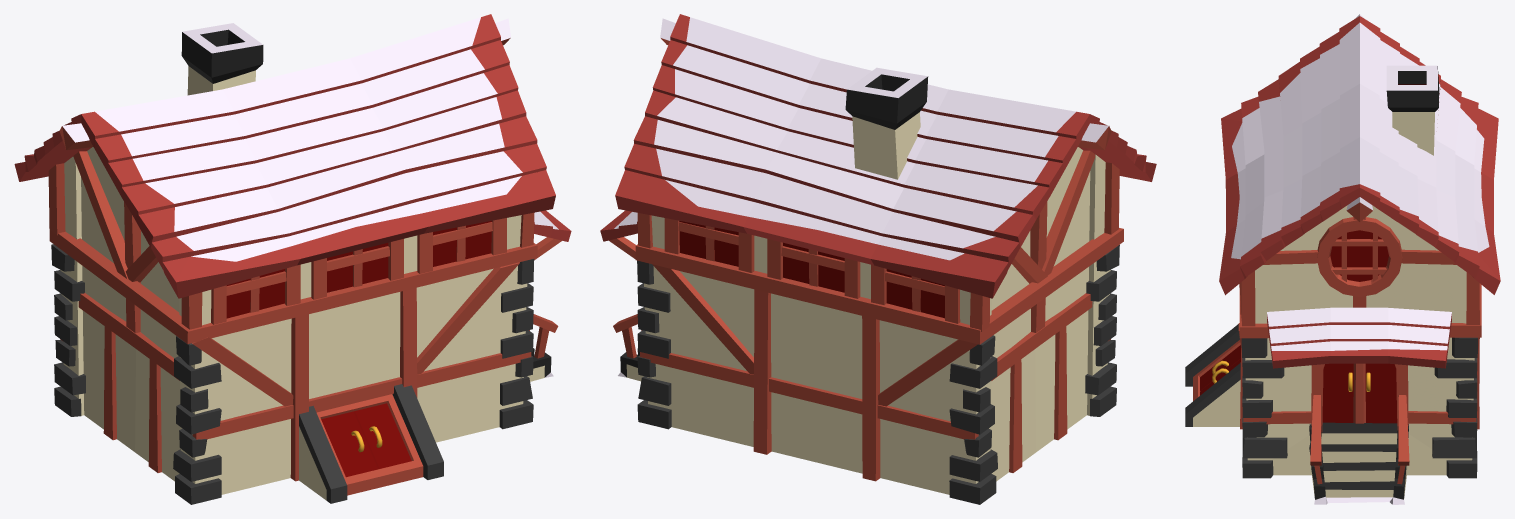
Rendered from house3.glb.
The picture shows the model from 3 angles, left to right: view 1: azimuth 30°, elevation 25°; view 2: azimuth 150°, elevation 25°; view 3: azimuth 270°, elevation 25°; orthographic projection. The views are drawn at different scales.
Visible parts, largest first — view 1: House3; view 2: House3; view 3: House3.
Boxes of the visible parts, x1,y1,x2,y2 form: House3: [14, 14, 571, 504]; House3: [600, 14, 1156, 504]; House3: [1185, 14, 1500, 504].
Size of what is drawn, in the model's own units: 6.16 by 4.6 by 4.19.
Materials: 1 (1 with a texture image).
